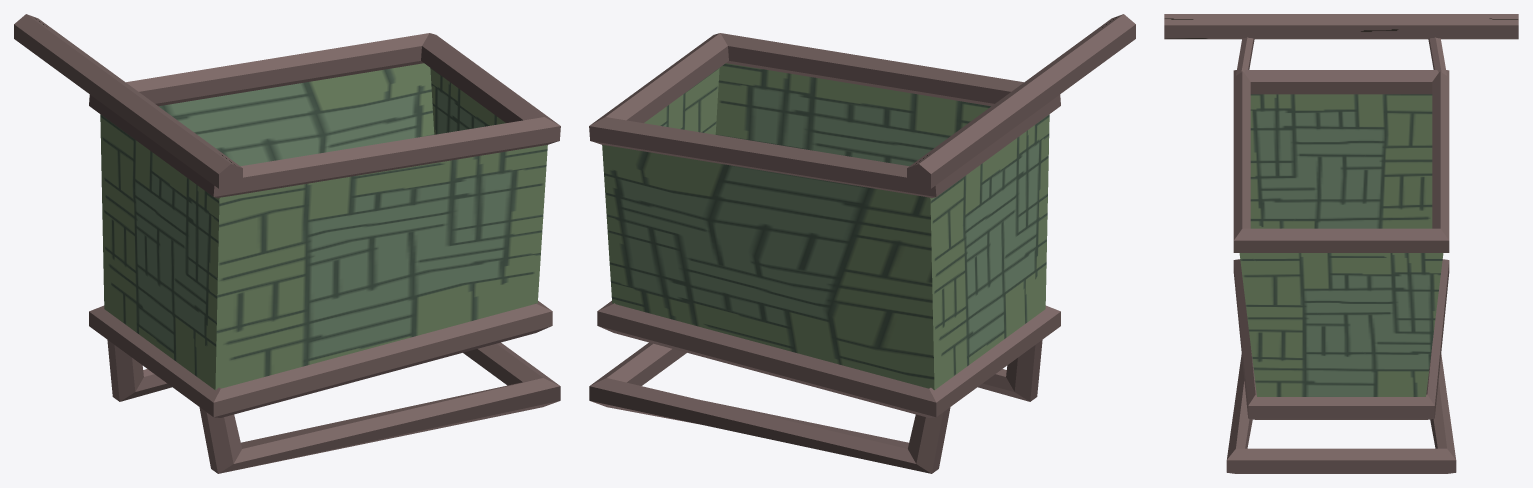
The model's file is cart_newt.gltf.
3 renders of one model, left to right at view 1: azimuth 30°, elevation 25°; view 2: azimuth 150°, elevation 25°; view 3: azimuth 270°, elevation 25°, orthographic. The views are drawn at different scales.
Visible parts, largest first — view 1: Cylinder.002; view 2: Cylinder.002; view 3: Cylinder.002.
Boxes of the visible parts, x1=… form: Cylinder.002: x1=14, y1=14, x2=560, y2=473; Cylinder.002: x1=589, y1=14, x2=1135, y2=473; Cylinder.002: x1=1164, y1=14, x2=1518, y2=473.
Size of the model in its own units: 3.68 by 3.31 by 3.41.
1 material, 1 textured.
